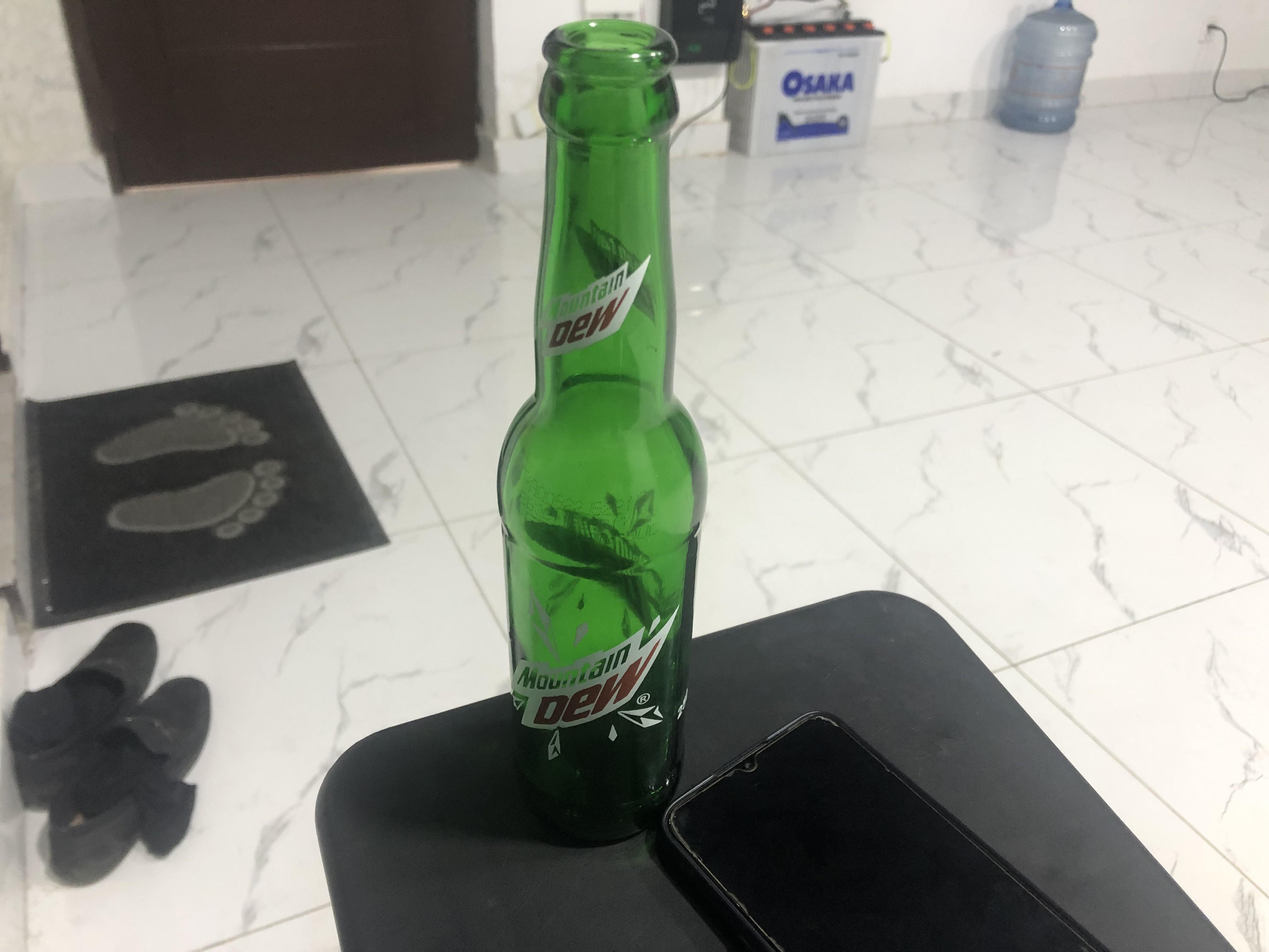bottle-glass: (494, 15, 709, 840)
